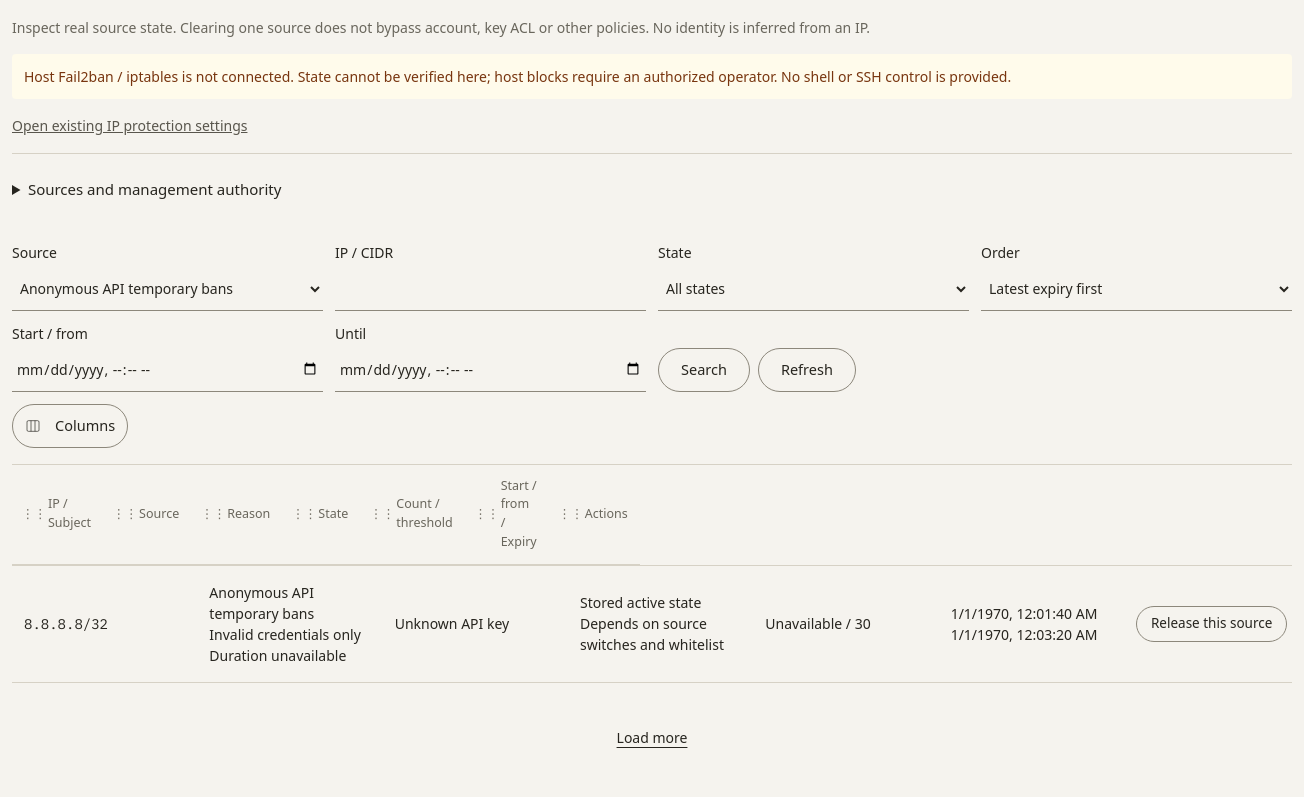
Test: IP audit › keeps an unverified readback distinct from a completed release
Click the button with test id "release-source". click: (1212, 624)
box: [1136,606,1287,642]
(page scrolled)
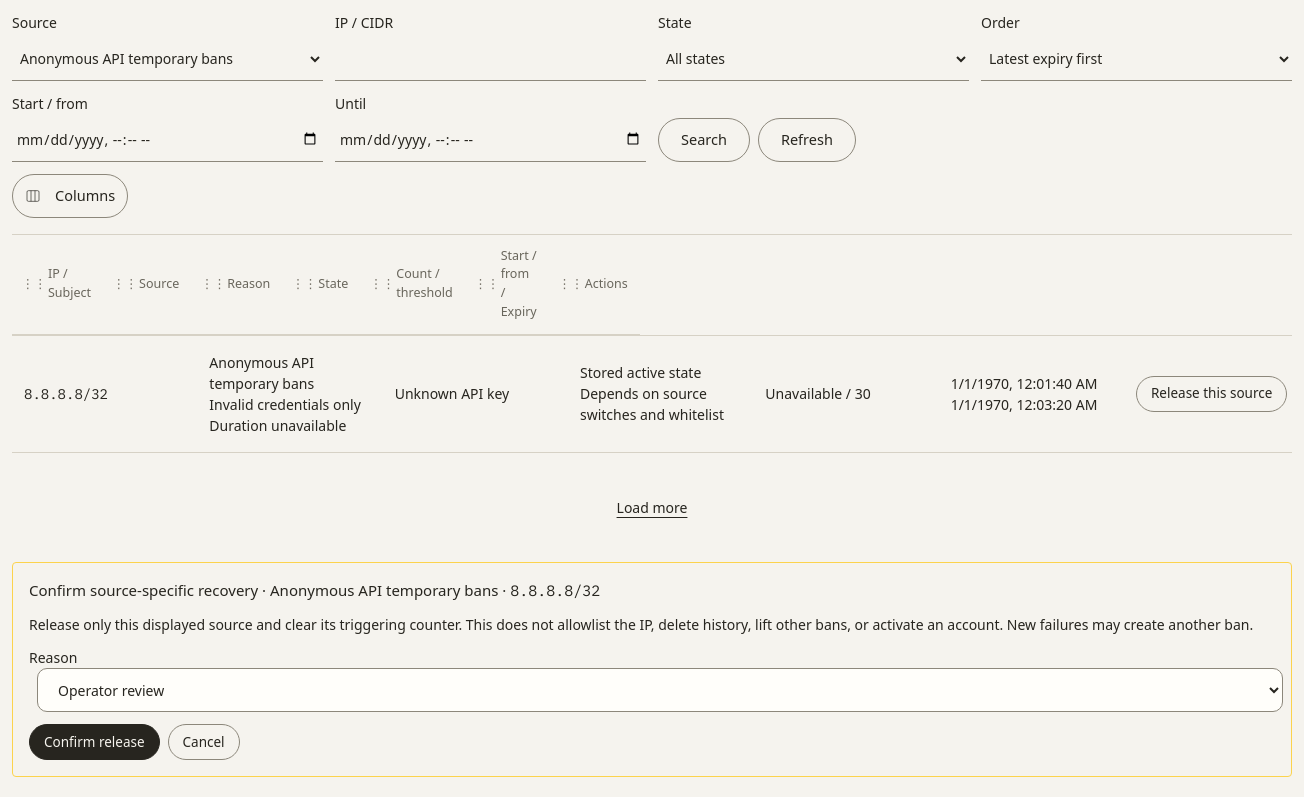
Click the button with test id "release-confirm". click: (94, 742)
box: [29,724,160,760]
(page scrolled)
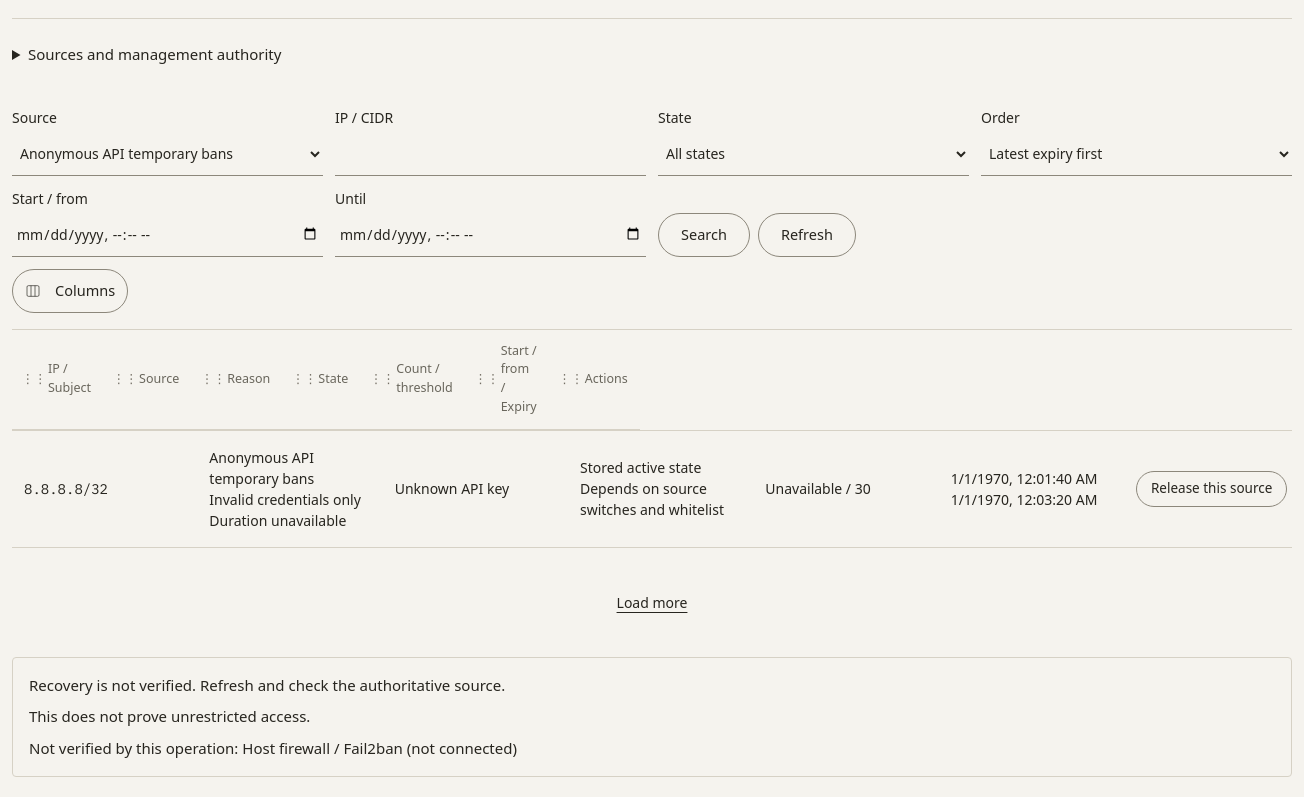
Result: the message with test id "release-outcome" shows "Recovery is not verified. Refresh and check the authoritative source." at [29,675,505,695]
